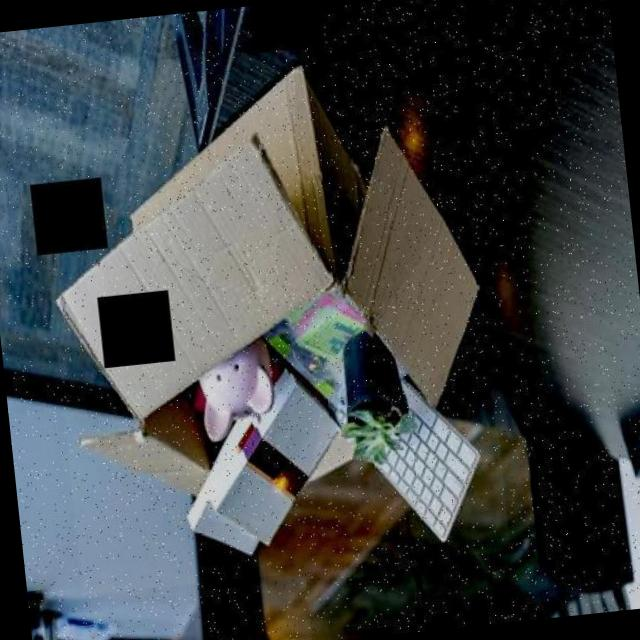box: (28, 28, 510, 595)
